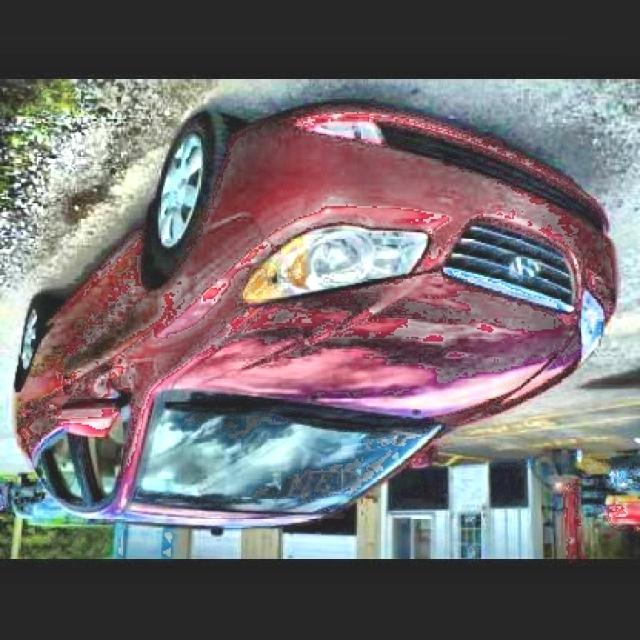maroon: (14, 108, 615, 526)
